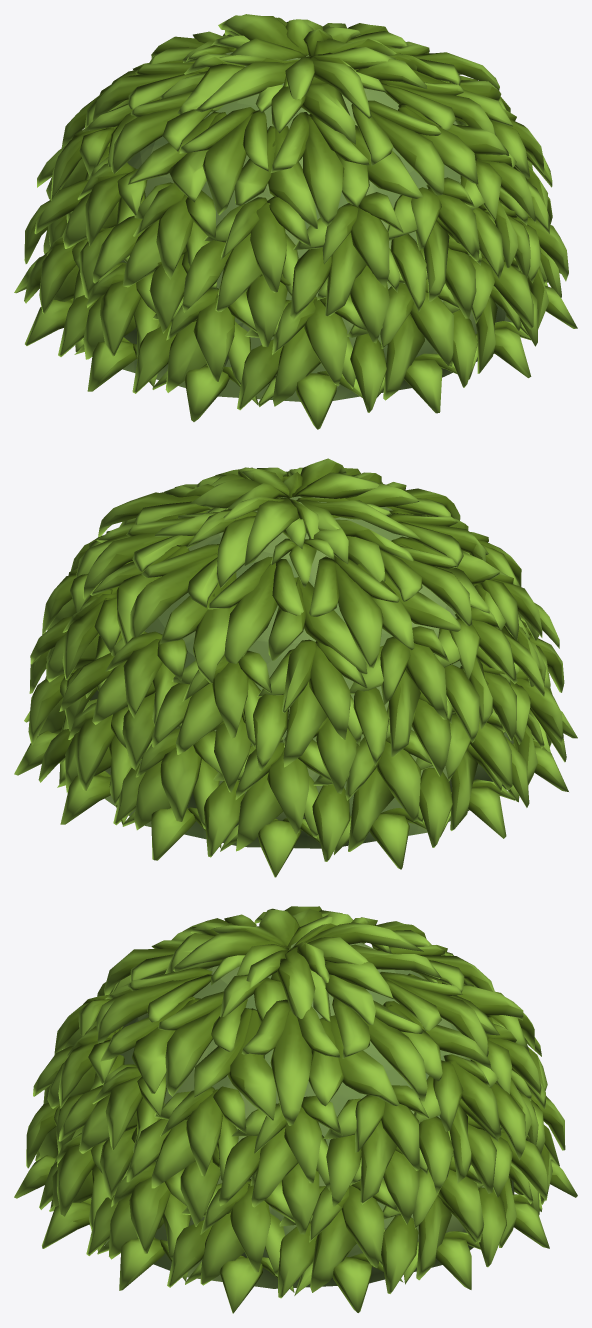
File: Bush1LOD2.fbx
The picture shows the model from 3 angles, top to bottom: view 1: azimuth 30°, elevation 25°; view 2: azimuth 150°, elevation 25°; view 3: azimuth 270°, elevation 25°; orthographic projection.
Visible parts, largest first — view 1: Plane.006; view 2: Plane.006; view 3: Plane.006.
Boxes of the visible parts, <box> form: Plane.006: <box>14,14,577,429</box>; Plane.006: <box>14,458,577,877</box>; Plane.006: <box>14,906,577,1313</box>.
Size of the model in its own units: 123 by 66.82 by 126.
